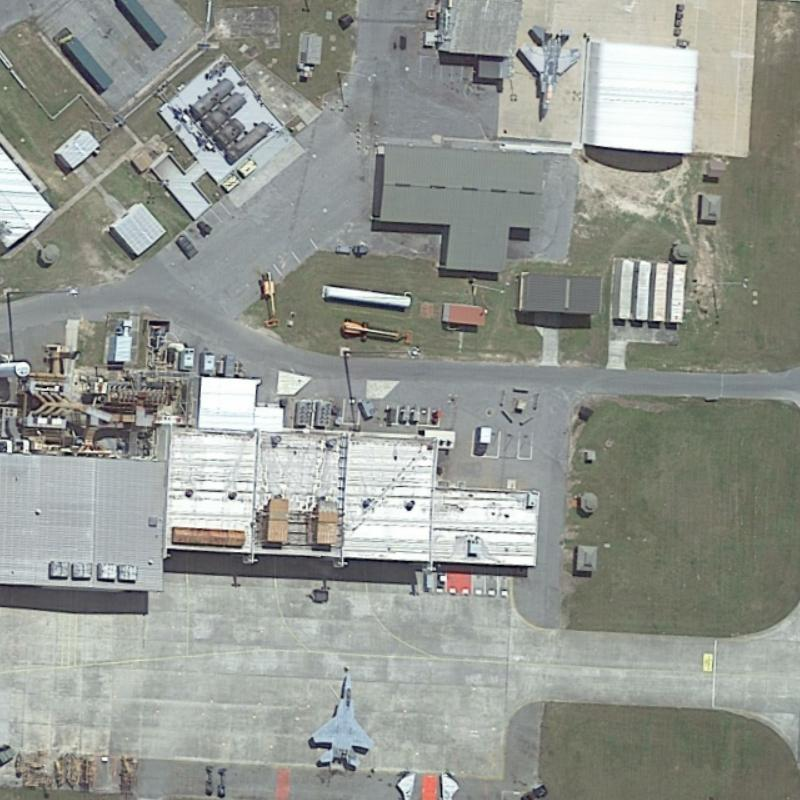A13: (303, 666, 375, 771), (515, 19, 583, 121)
